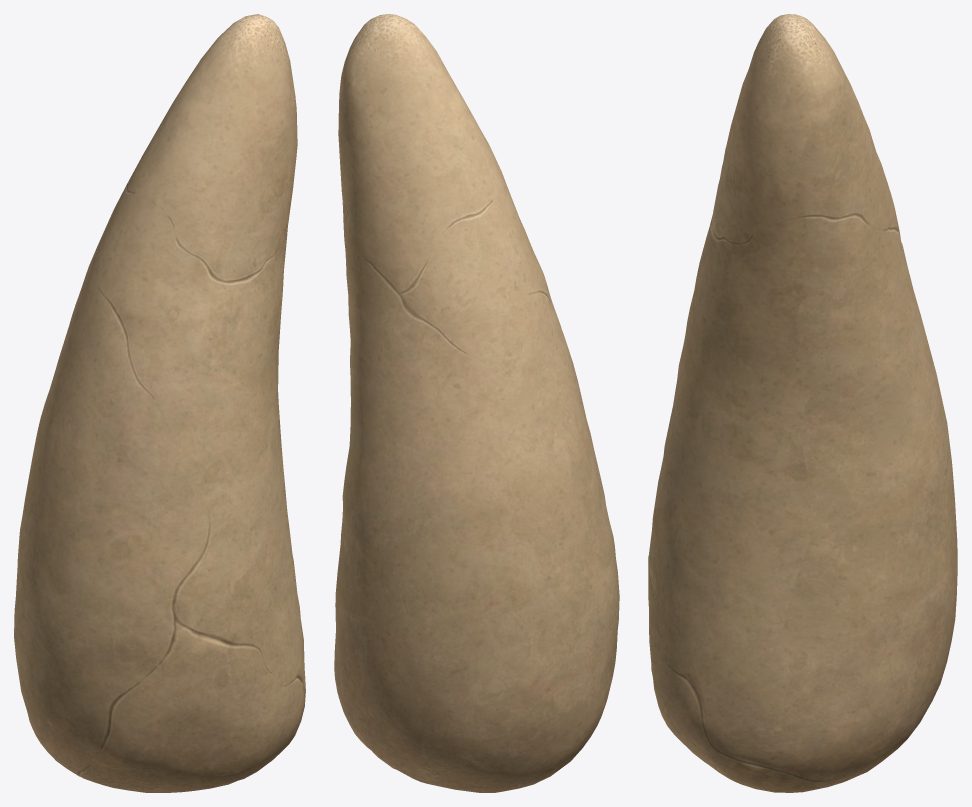
Rendered from tb_bone_02b.glb.
3 views of the same model, side by side, from view 1: azimuth 30°, elevation 25°; view 2: azimuth 150°, elevation 25°; view 3: azimuth 270°, elevation 25° (orthographic). The views are drawn at different scales.
Parts seen in each view (by area): view 1: tb_bone_02b; view 2: tb_bone_02b; view 3: tb_bone_02b.
Part boxes in pixels (bbox=[...]): tb_bone_02b: bbox=[14, 14, 305, 792]; tb_bone_02b: bbox=[334, 14, 619, 792]; tb_bone_02b: bbox=[648, 14, 957, 792].
Size of the model in its own units: 1.06 by 2.95 by 1.04.
Materials: 1 (1 with a texture image).
